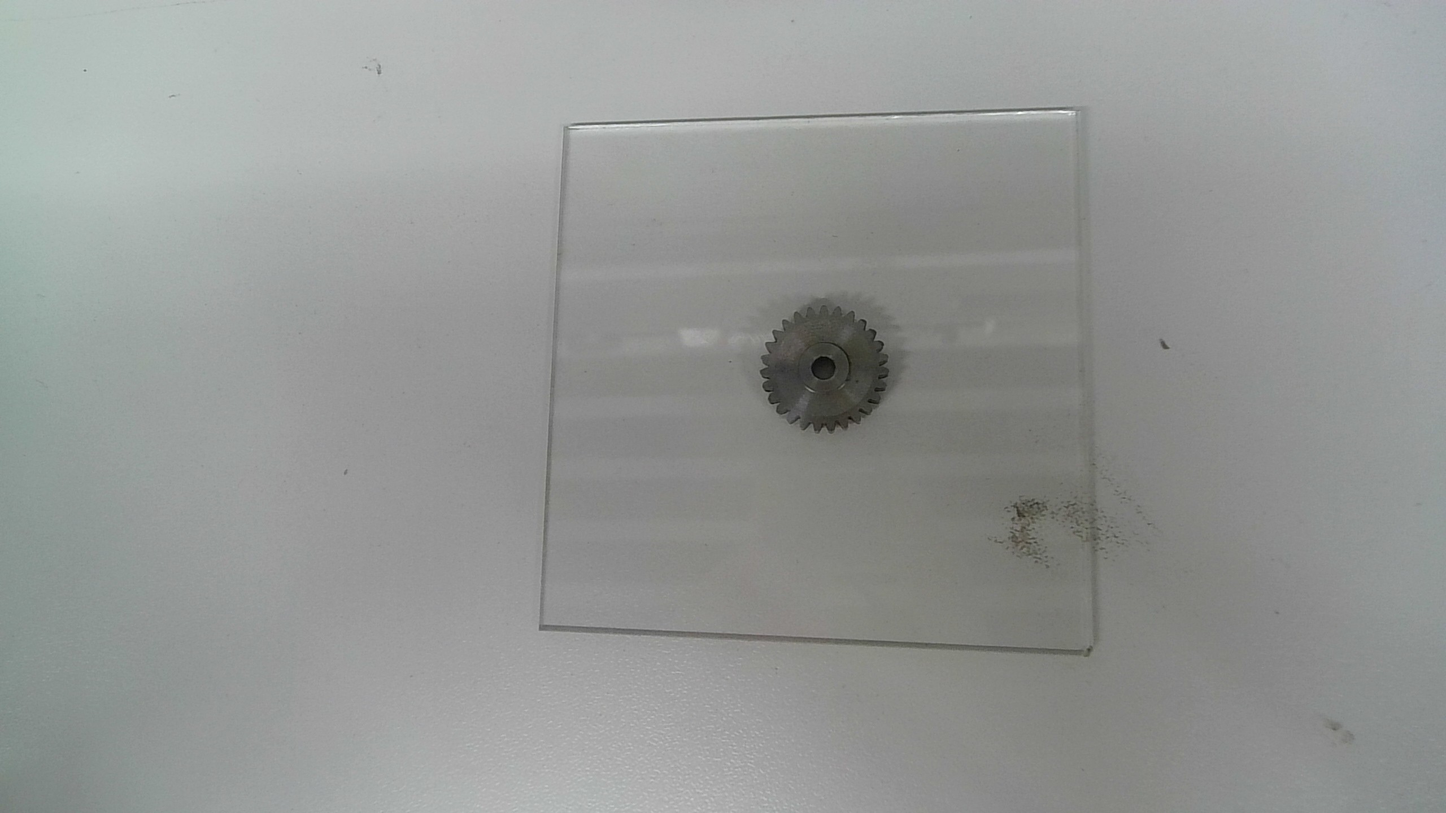gear: (758, 297, 891, 437)
